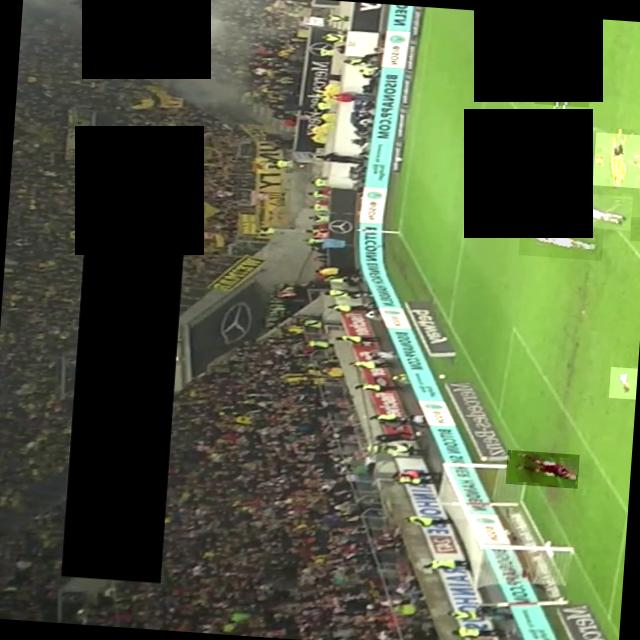goalkeeper: (504, 449, 578, 488)
soccer-player: (486, 168, 568, 212), (532, 48, 592, 108), (517, 220, 602, 260), (550, 191, 632, 230), (591, 132, 640, 188), (608, 366, 638, 399), (628, 216, 640, 241)
